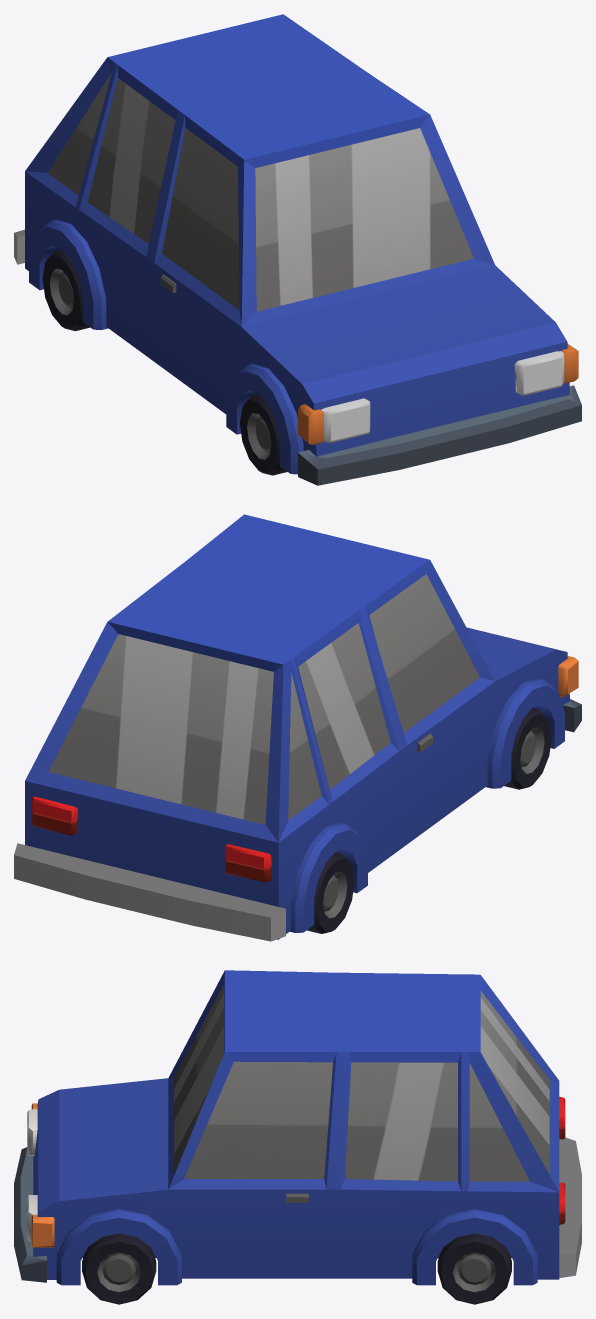
The model's file is Car_1_3.glb.
The picture shows the model from 3 angles, top to bottom: view 1: azimuth 30°, elevation 25°; view 2: azimuth 150°, elevation 25°; view 3: azimuth 270°, elevation 25°; orthographic projection. The views are drawn at different scales.
Parts seen in each view (by area): view 1: Car_1_3, Wheel_Br, Wheel_Fr; view 2: Car_1_3, Wheel_Fr, Wheel_Br; view 3: Car_1_3, Wheel_Fl, Wheel_Bl.
Part boxes in pixels (bbox=[...]): Car_1_3: bbox=[14, 14, 581, 485]; Wheel_Br: bbox=[42, 249, 89, 331]; Wheel_Fr: bbox=[240, 394, 287, 475]; Car_1_3: bbox=[14, 514, 581, 941]; Wheel_Fr: bbox=[504, 708, 551, 789]; Wheel_Br: bbox=[307, 852, 354, 933]; Car_1_3: bbox=[14, 970, 581, 1285]; Wheel_Fl: bbox=[82, 1233, 156, 1304]; Wheel_Bl: bbox=[437, 1233, 511, 1304].
Size of the model in its own units: 1.05 by 0.9433 by 2.07.
Materials: 4 (4 with a texture image).
